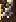iron: (0, 1, 16, 22)
